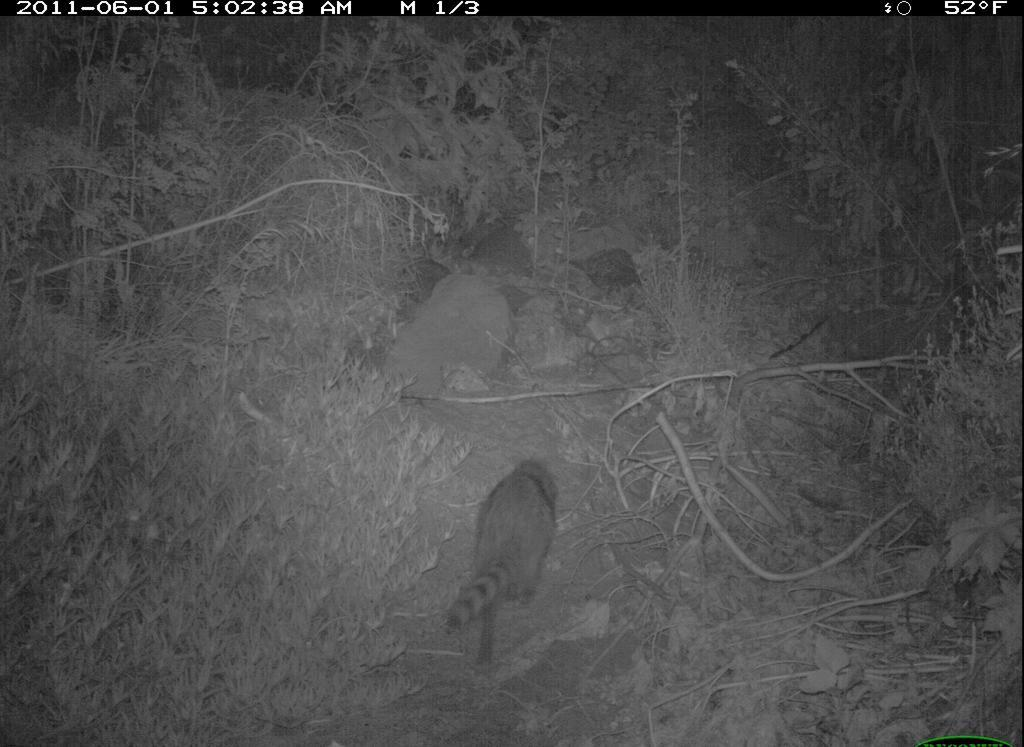raccoon: (441, 445, 570, 666)
